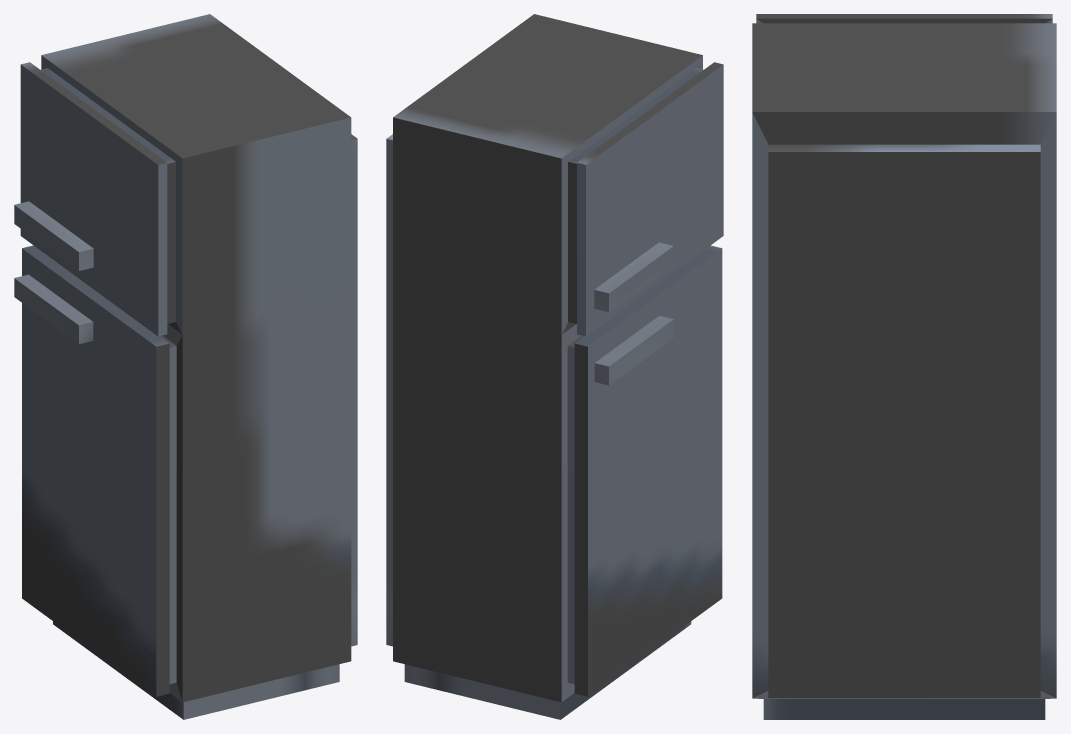
File: fridge.fbx
3 renders of one model, left to right at view 1: azimuth 30°, elevation 25°; view 2: azimuth 150°, elevation 25°; view 3: azimuth 270°, elevation 25°, orthographic. The views are drawn at different scales.
Parts seen in each view (by area): view 1: Fridge; view 2: Fridge; view 3: Fridge.
Part boxes in pixels (x1=…): Fridge: x1=14, y1=14, x2=357, y2=719; Fridge: x1=386, y1=14, x2=723, y2=719; Fridge: x1=752, y1=14, x2=1056, y2=719.
Size of the model in its own units: 157 by 385 by 174.
